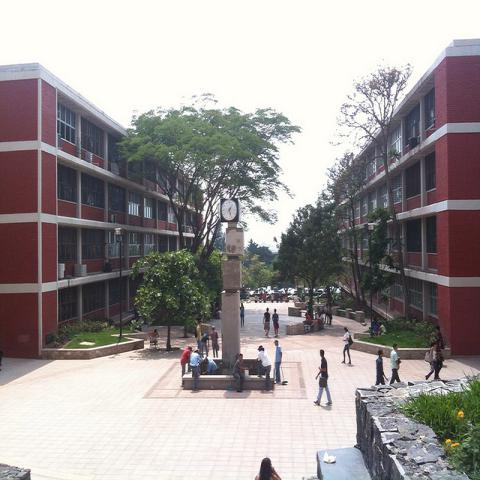car: (270, 293, 284, 303), (247, 288, 255, 296), (286, 294, 296, 300)
